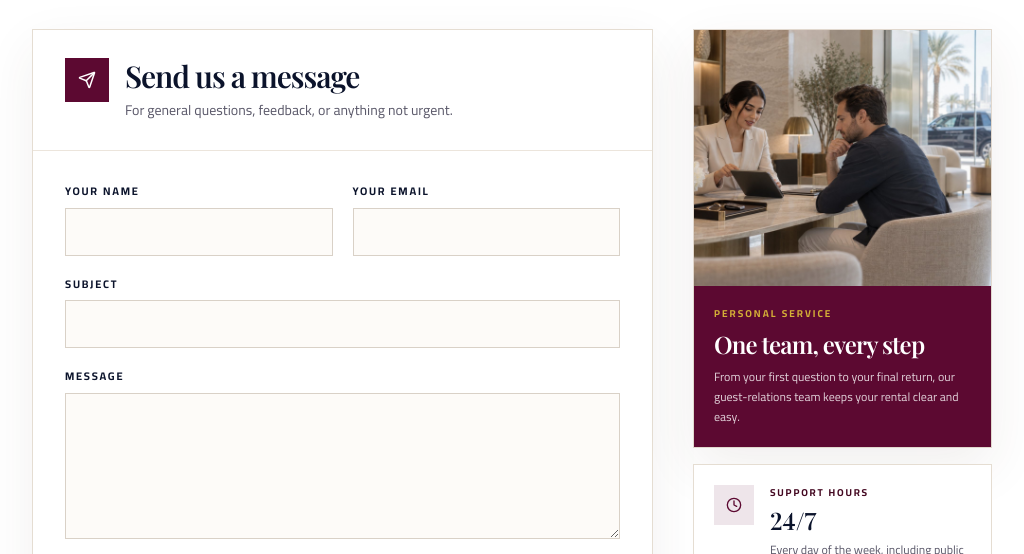
Scenario: ContactPage › shows the success message and clears the form after a successful submission
(page scrolled)
Step 1. Type "Jane Renter" into the field labelled "Your name" → (199, 232), box [65,208,332,256]
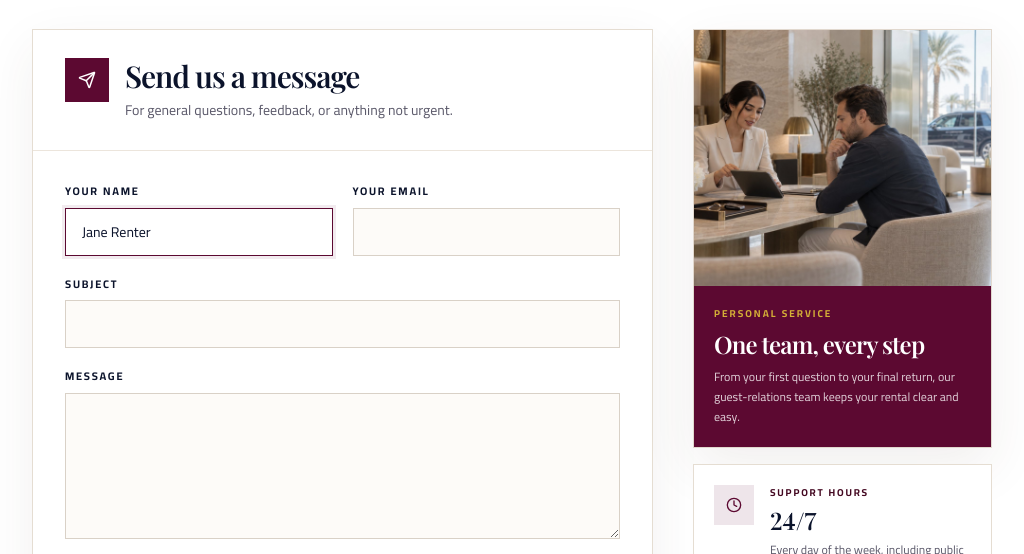
Step 2. Type "jane@example.com" into the field labelled "Your email" → (486, 232), box [352,208,620,256]
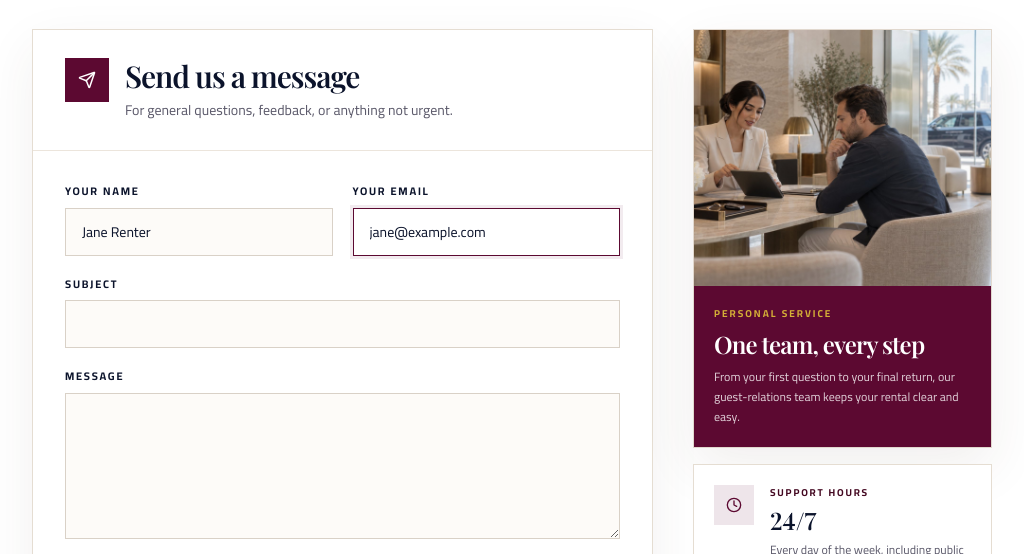
Step 3. Type "My refund has not arrived yet." into the text box labelled "Message" → (342, 466), box [65,392,620,538]
(page scrolled)
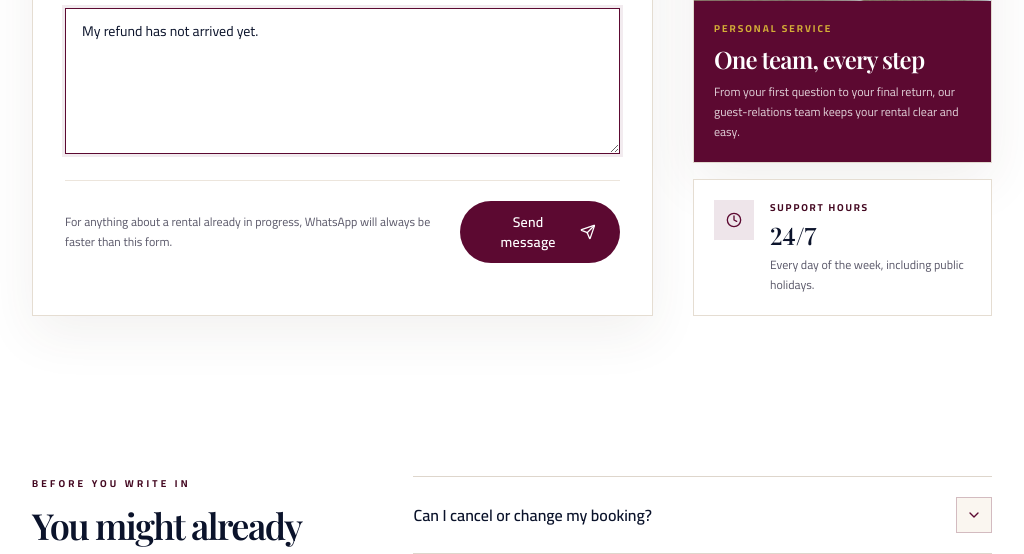
Step 4. Click the button "Send message" → (540, 232), box [460,200,620,262]
(page scrolled)
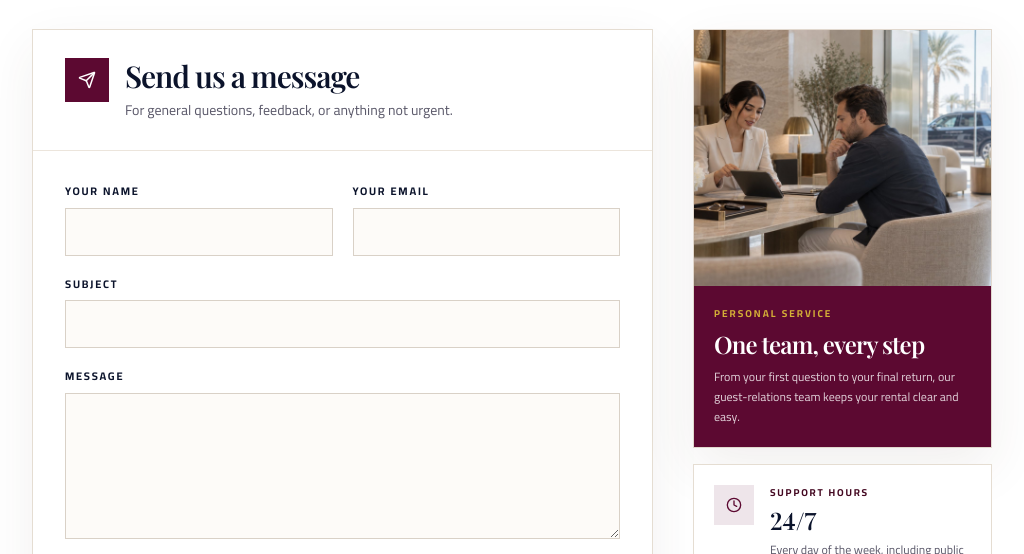
Check: the field labelled "Your name" is empty, box [65,208,332,256]
